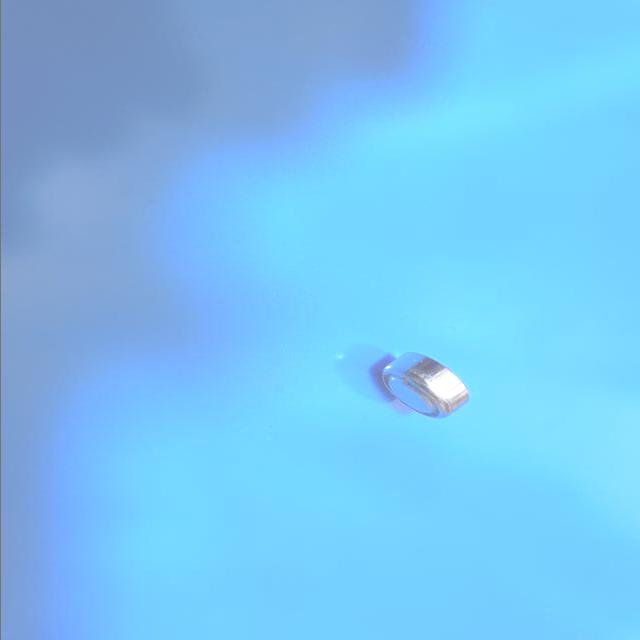COIN: (378, 351, 468, 418)
